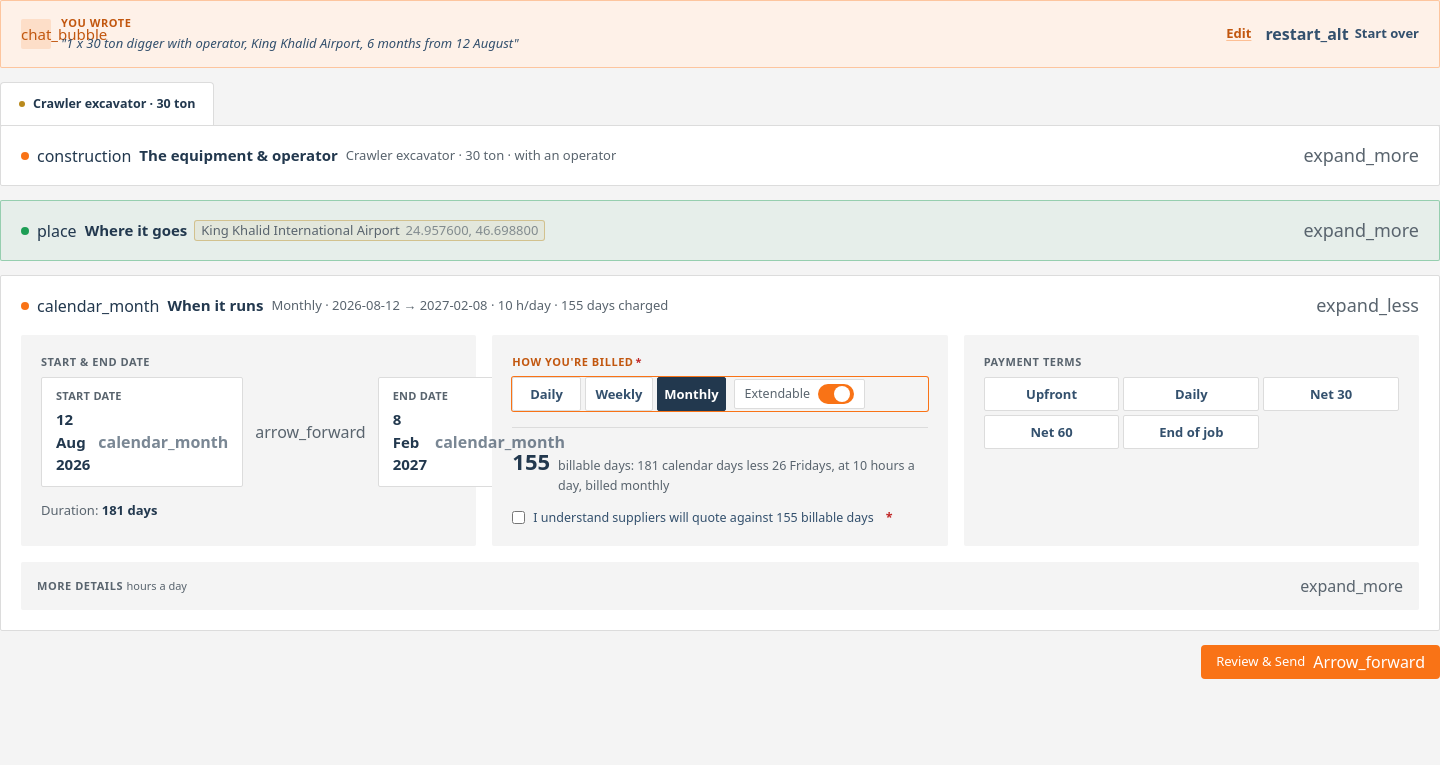
it: the canvas is an accordion › opens equipment before shaking it, even when collapsed
This screenshot has width=1440, height=765.
Expected: the text "TYPE" is not shown
Click the button that starts with "place".
click(57, 230)  # box [1,201,1439,260]
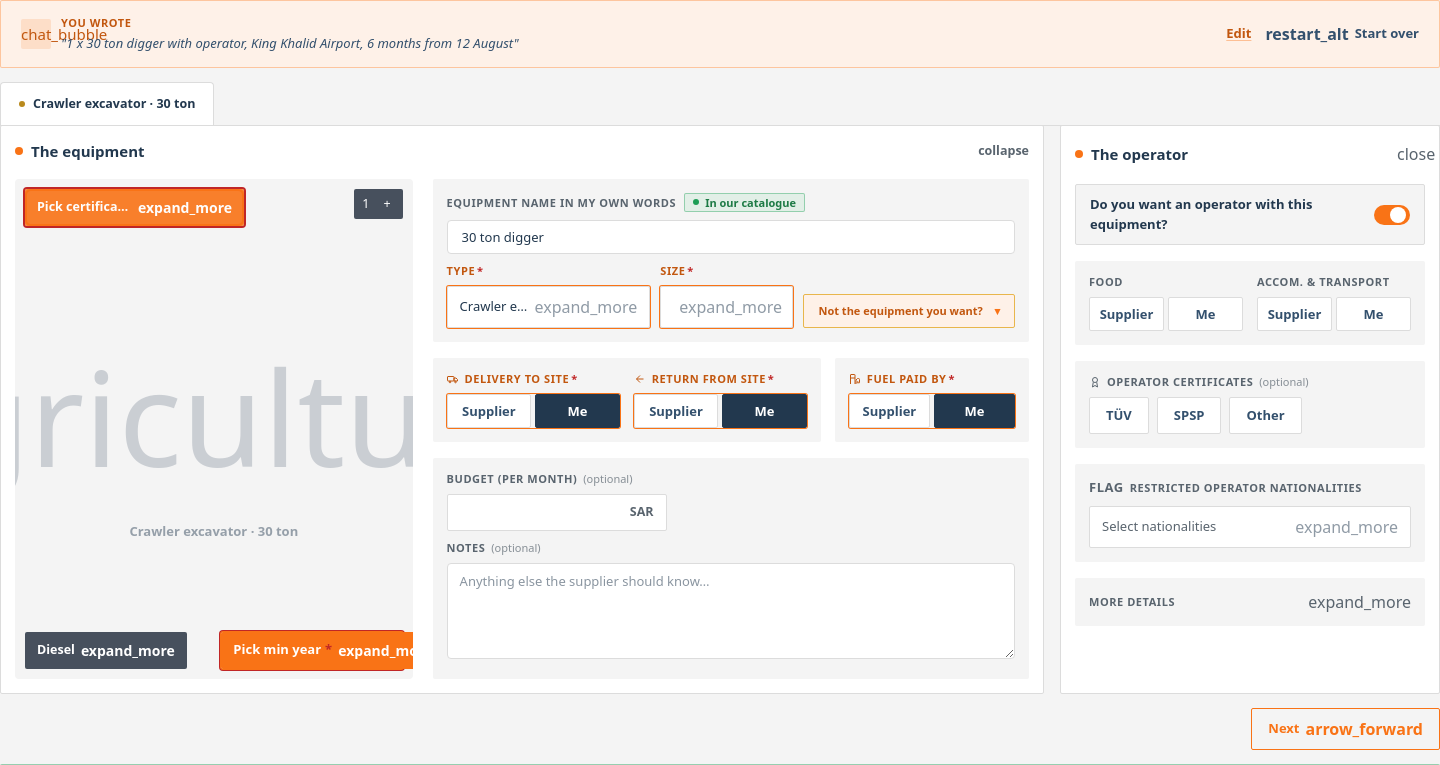
Expected: the text "TYPE" is shown, [447,263,475,278]
